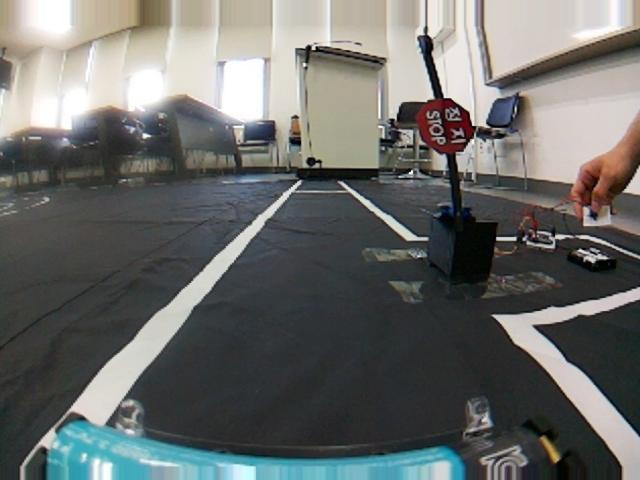sign_stop: (413, 95, 481, 155)
straight: (23, 327, 640, 478)
